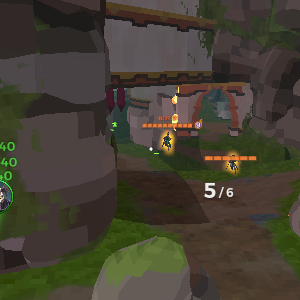model: (227, 152, 241, 176), (161, 131, 172, 154)
